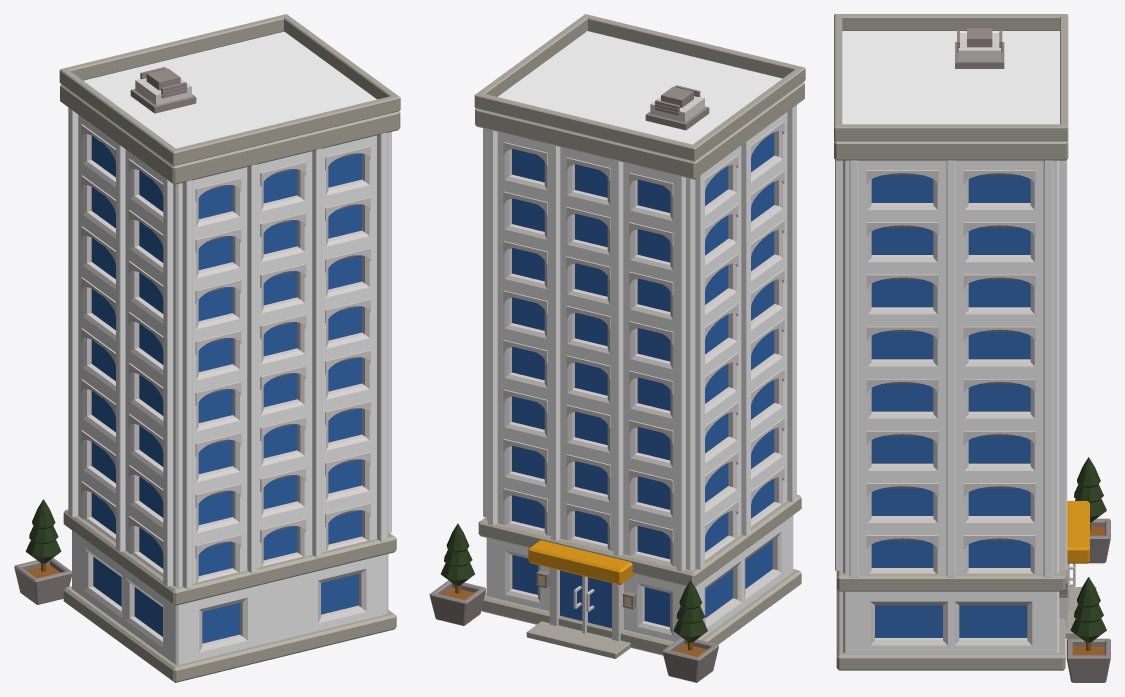
The model's file is BGHigh002_JC.fbx.
3 views of the same model, side by side, from view 1: azimuth 30°, elevation 25°; view 2: azimuth 150°, elevation 25°; view 3: azimuth 270°, elevation 25° (orthographic). The views are drawn at different scales.
Visible parts, largest first — view 1: BGHigh002_JC; view 2: BGHigh002_JC; view 3: BGHigh002_JC.
Part boxes in pixels (x1=…): BGHigh002_JC: x1=14, y1=14, x2=400, y2=682; BGHigh002_JC: x1=429, y1=14, x2=805, y2=682; BGHigh002_JC: x1=834, y1=14, x2=1110, y2=682.
Size of the model in its own units: 513 by 957 by 432.
Materials: 1 (1 with a texture image).
